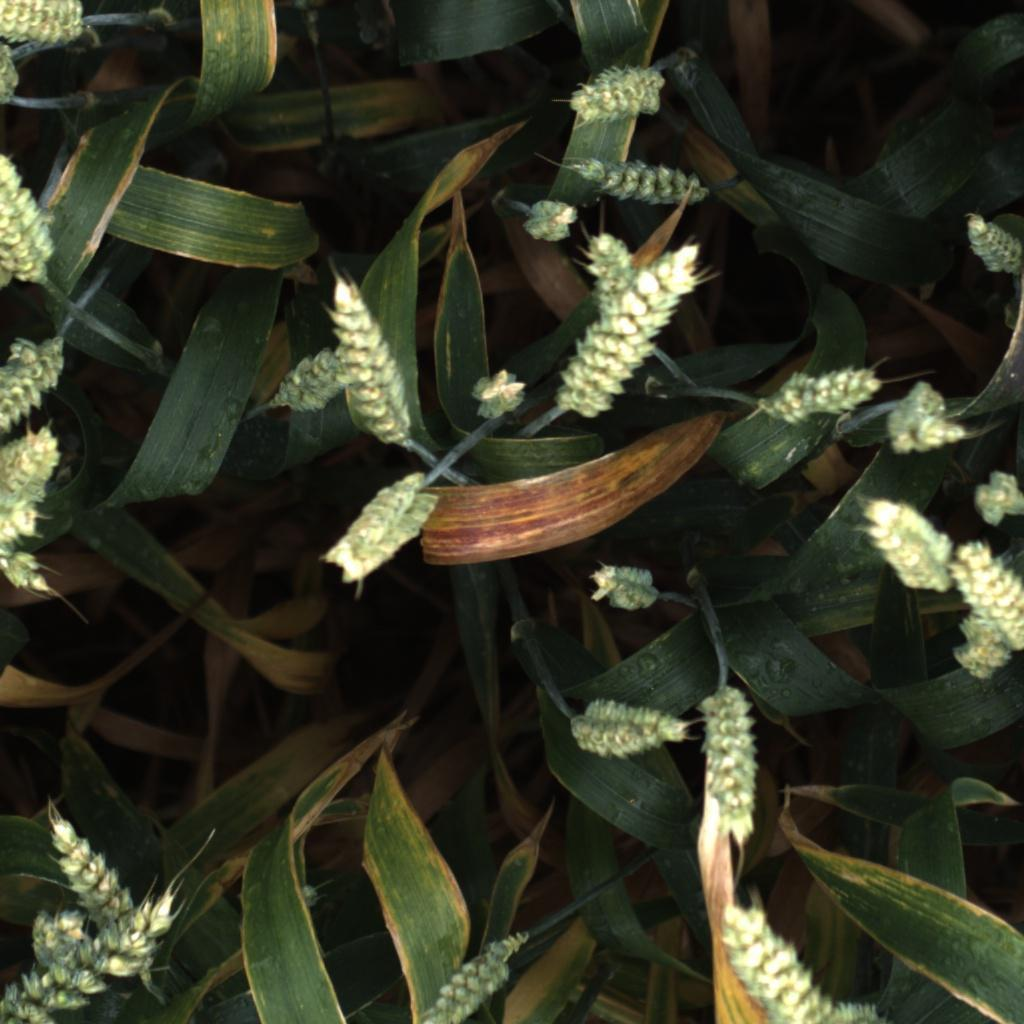0-0: (548, 246, 708, 423), (0, 884, 180, 1024), (715, 903, 897, 1024), (327, 270, 422, 448), (321, 468, 436, 589), (417, 915, 532, 1021), (0, 426, 67, 607), (855, 488, 953, 600), (44, 793, 131, 919), (696, 682, 758, 840), (946, 537, 1024, 654), (566, 689, 690, 762), (0, 135, 52, 303), (0, 335, 67, 448), (576, 152, 708, 208), (757, 366, 880, 426), (884, 375, 968, 457), (567, 60, 669, 126), (578, 219, 643, 317), (272, 344, 351, 421), (18, 901, 96, 976), (950, 605, 1017, 680), (955, 209, 1024, 279), (0, 0, 89, 51), (590, 559, 661, 617), (967, 464, 1024, 529), (470, 367, 532, 423), (521, 192, 575, 243), (0, 42, 32, 107)
